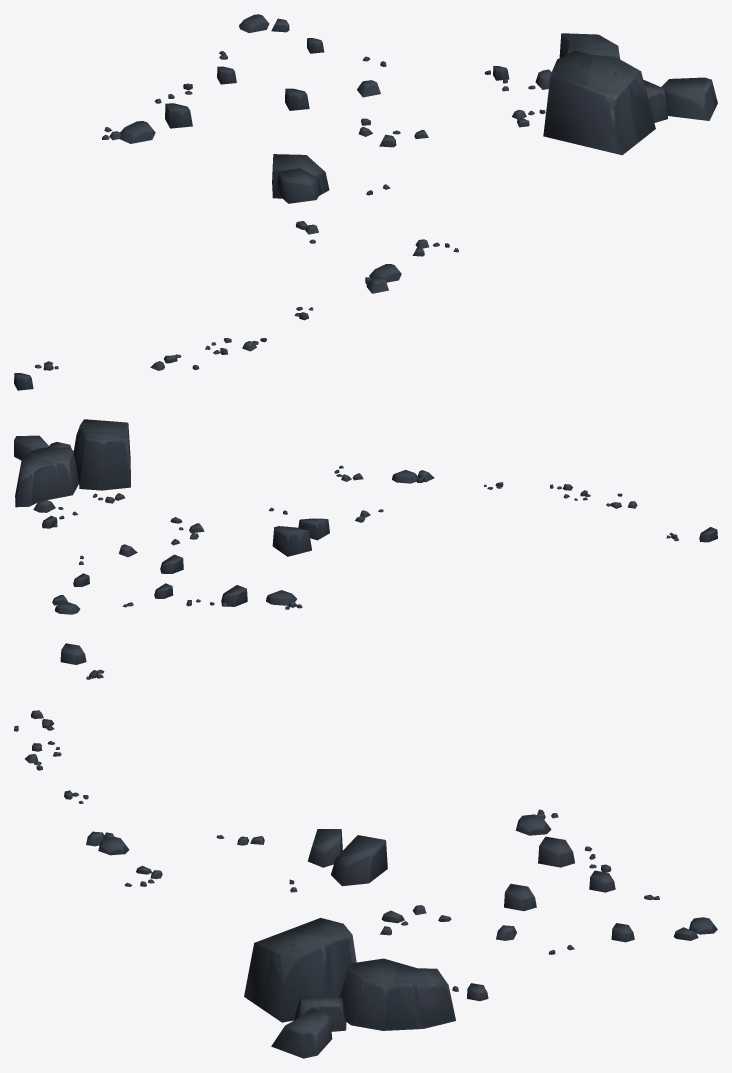
File: shitou17.fbx
3 renders of one model, top to bottom at view 1: azimuth 30°, elevation 25°; view 2: azimuth 150°, elevation 25°; view 3: azimuth 270°, elevation 25°, orthographic. The views are drawn at different scales.
Visible parts, largest first — view 1: shitou17; view 2: shitou17; view 3: shitou17.
Part boxes in pixels (bbox=[...]): shitou17: bbox=[14, 14, 717, 390]; shitou17: bbox=[14, 419, 717, 614]; shitou17: bbox=[14, 643, 717, 1058].
Size of the model in its own units: 11964 by 1042 by 8787.
